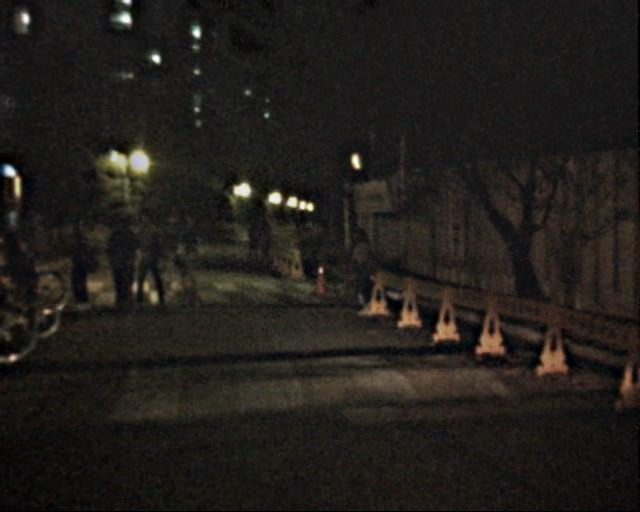person: (15, 211, 55, 308), (129, 210, 166, 301), (341, 227, 378, 318), (107, 214, 143, 303), (64, 214, 98, 298), (163, 214, 185, 267), (178, 213, 200, 266), (254, 216, 273, 263), (243, 219, 260, 261)
